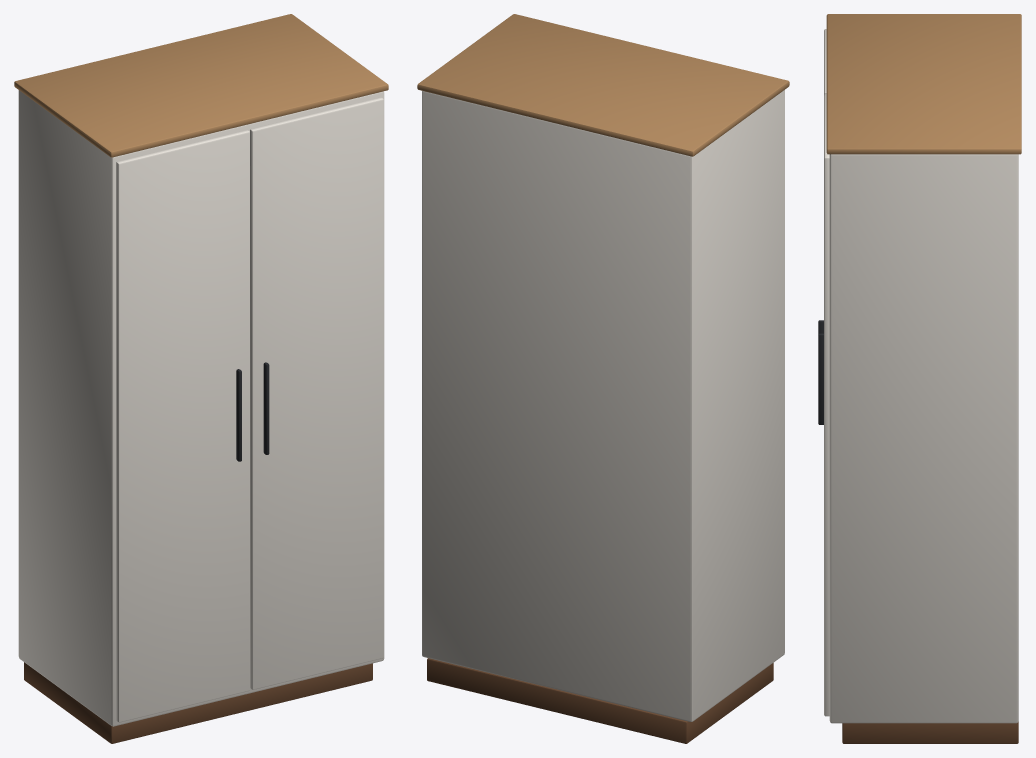
Rendered from wardrobe_2.glb.
The picture shows the model from 3 angles, left to right: view 1: azimuth 30°, elevation 25°; view 2: azimuth 150°, elevation 25°; view 3: azimuth 270°, elevation 25°; orthographic projection.
Visible parts, largest first — view 1: box.003, box.005, box.001, box.002, box, box.006; view 2: box.001, box.002, box; view 3: box.001, box.002, box, box.005, box.006.
Part boxes in pixels (x1,y1,x2,y2): box.003: [116, 130, 249, 722]; box.005: [250, 97, 383, 689]; box.001: [18, 90, 384, 726]; box.002: [14, 14, 388, 157]; box: [24, 662, 372, 743]; box.006: [263, 362, 269, 454]; box.001: [422, 90, 784, 721]; box.002: [417, 14, 789, 156]; box: [427, 658, 773, 743]; box.001: [829, 154, 1018, 723]; box.002: [826, 14, 1021, 154]; box: [842, 721, 1018, 743]; box.005: [824, 94, 829, 716]; box.006: [818, 333, 823, 424].
Bounding box in the file's own units: 102 × 210 × 64.7.
